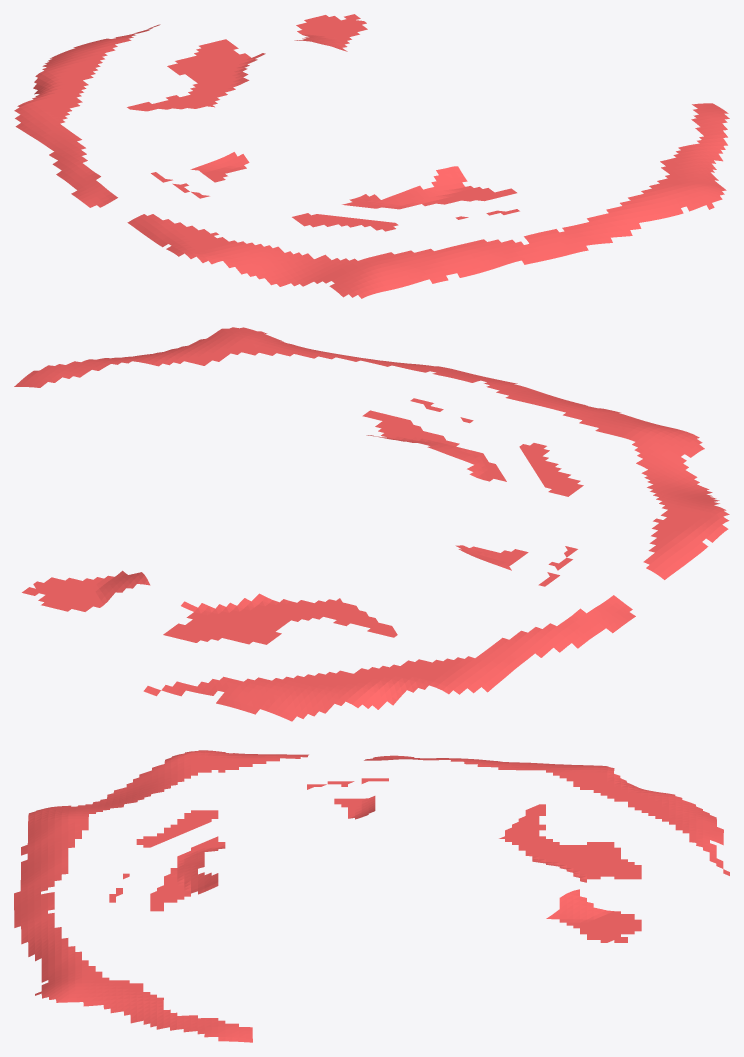
The model's file is treeline.glb.
The picture shows the model from 3 angles, top to bottom: view 1: azimuth 30°, elevation 25°; view 2: azimuth 150°, elevation 25°; view 3: azimuth 270°, elevation 25°; orthographic projection. The views are drawn at different scales.
Visible parts, largest first — view 1: Treeline; view 2: Treeline; view 3: Treeline.
Boxes of the visible parts, x1,y1,x2,y2 form: Treeline: [14, 14, 729, 298]; Treeline: [14, 327, 729, 721]; Treeline: [14, 750, 729, 1042].
Size of the model in its own units: 27.35 by 1.29 by 28.09.
